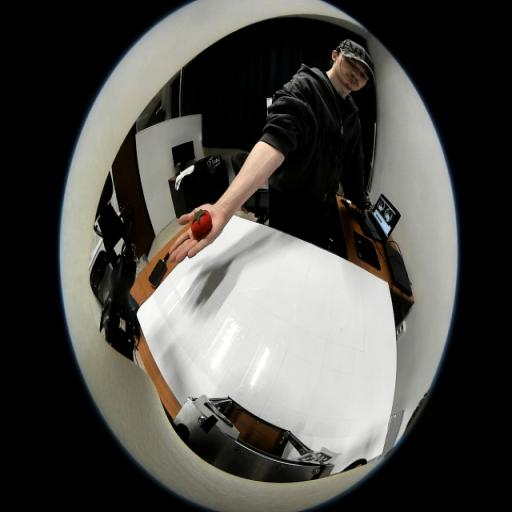Tomato: (191, 209, 212, 238)
